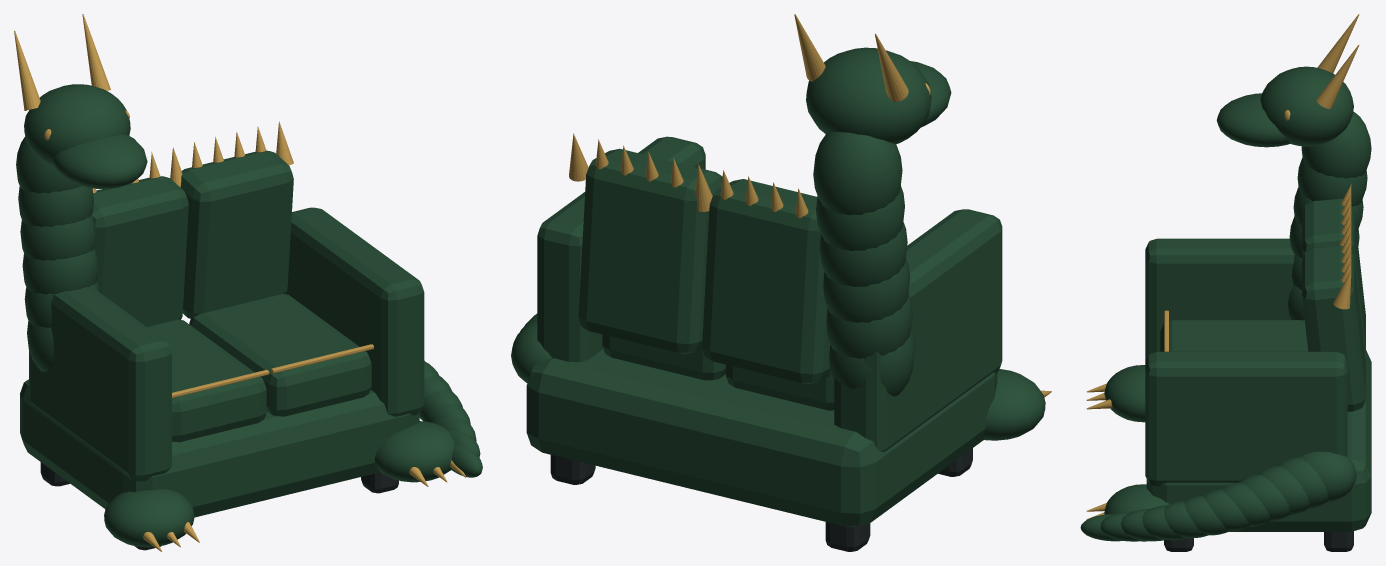
File: better.glb
3 views of the same model, side by side, from view 1: azimuth 30°, elevation 25°; view 2: azimuth 150°, elevation 25°; view 3: azimuth 270°, elevation 25° (orthographic). The views are drawn at different scales.
Visible parts, largest first — view 1: Armrest, Amber eye, Sofa foot; view 2: Armrest, Amber eye, Sofa foot; view 3: Armrest, Amber eye, Sofa foot.
Boxes of the visible parts, x1,y1,x2,y2 form: Armrest: [16, 84, 482, 547]; Amber eye: [14, 14, 465, 551]; Sofa foot: [40, 462, 398, 550]; Armrest: [511, 47, 1045, 526]; Amber eye: [569, 14, 1051, 397]; Sofa foot: [550, 448, 972, 551]; Armrest: [1080, 66, 1371, 541]; Amber eye: [1086, 14, 1359, 519]; Sofa foot: [1164, 531, 1353, 551].
Bounding box in the file's own units: 1.27 × 1.46 × 0.932.
